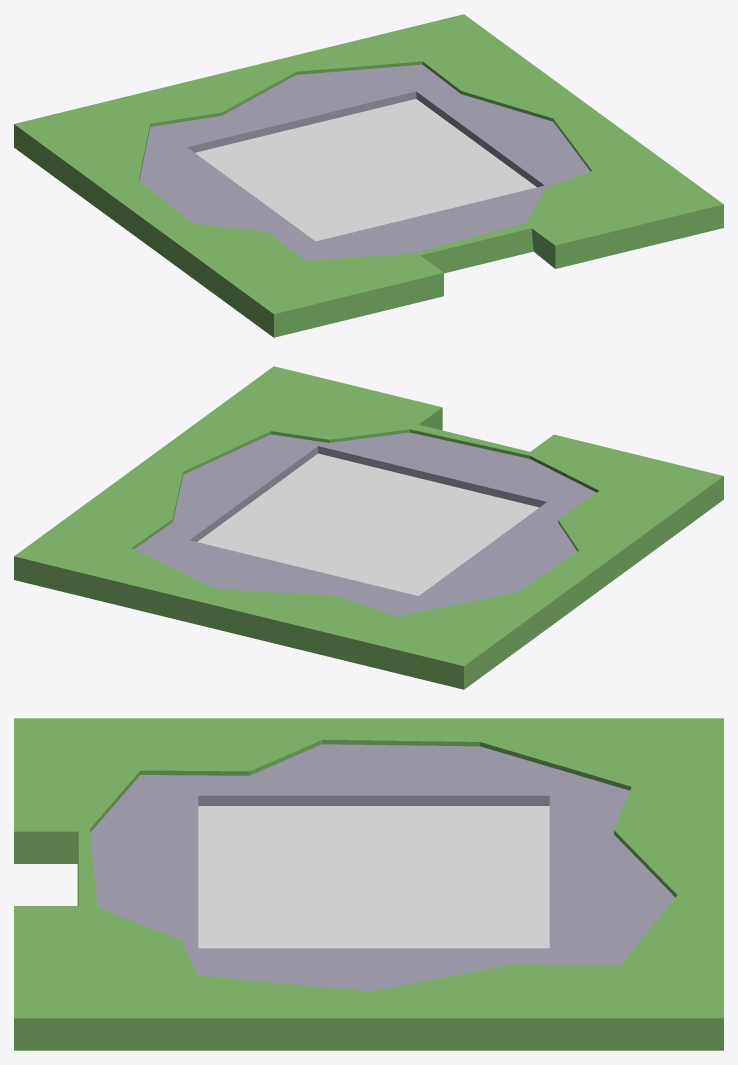
The model's file is maidstage2minibossstage.fbx.
3 views of the same model, one above another, from view 1: azimuth 30°, elevation 25°; view 2: azimuth 150°, elevation 25°; view 3: azimuth 270°, elevation 25° (orthographic). The views are drawn at different scales.
Parts seen in each view (by area): view 1: Cube; view 2: Cube; view 3: Cube.
Part boxes in pixels (x1,y1,x2,y2): Cube: (14, 14, 723, 337); Cube: (14, 366, 723, 689); Cube: (14, 718, 723, 1050).
Size of the model in its own units: 4000 by 200 by 4000.
